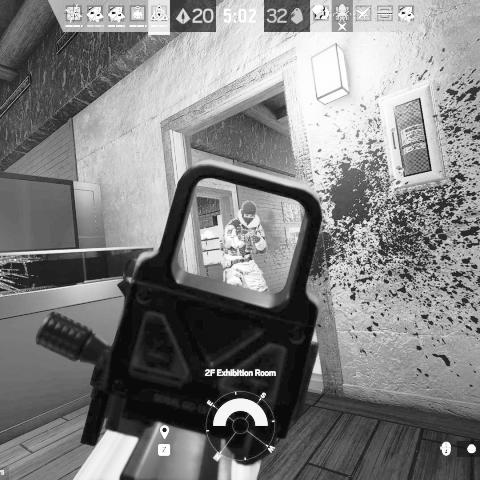Character: (220, 200, 270, 294)
Head: (238, 201, 259, 226)
